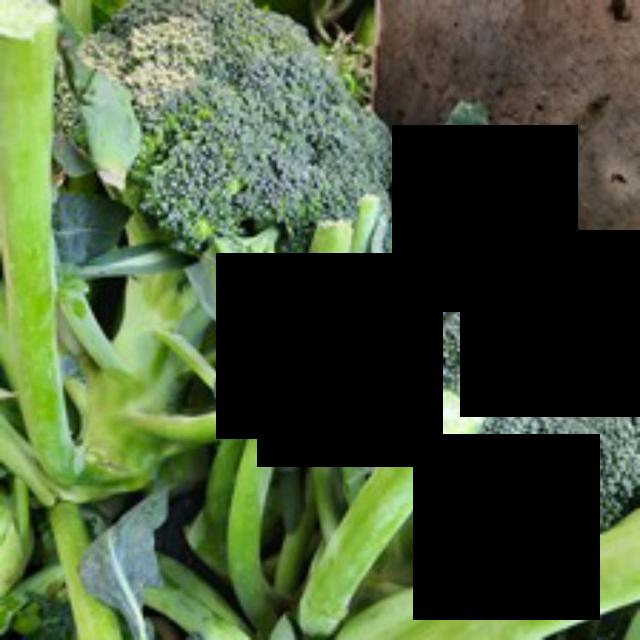broccoli: (356, 244, 640, 588)
